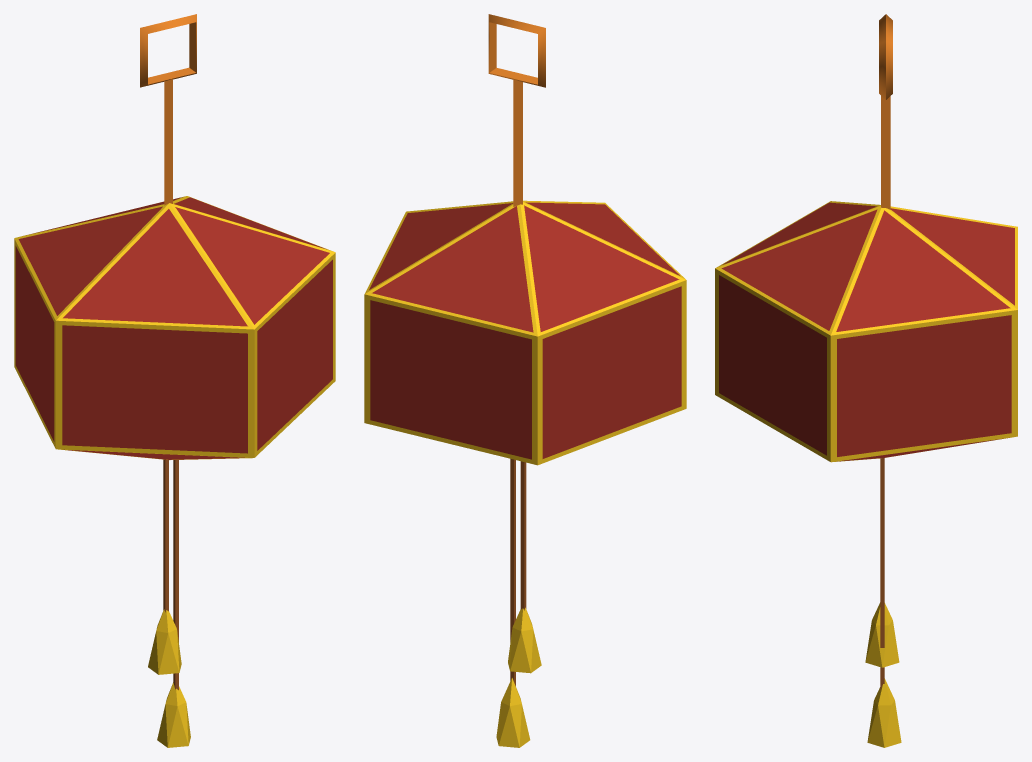
File: ChineseLantern_06.glb
3 renders of one model, left to right at view 1: azimuth 30°, elevation 25°; view 2: azimuth 150°, elevation 25°; view 3: azimuth 270°, elevation 25°, orthographic.
Parts seen in each view (by area): view 1: ChineseLantern_06; view 2: ChineseLantern_06; view 3: ChineseLantern_06.
Part boxes in pixels (<box>): ChineseLantern_06: <box>14,14,335,747</box>; ChineseLantern_06: <box>364,14,686,747</box>; ChineseLantern_06: <box>715,14,1017,747</box>.
Size of the model in its own units: 0.5723 by 1.41 by 0.5443.
Materials: 1 (1 with a texture image).
